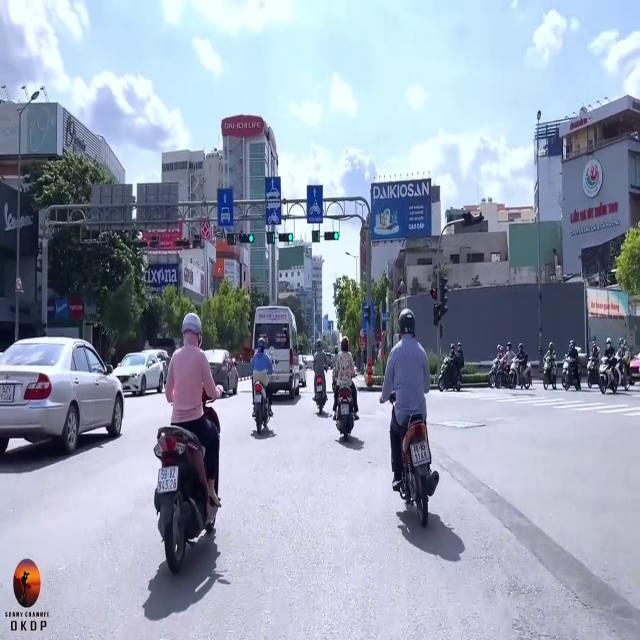bien_trang: (158, 457, 180, 501), (410, 441, 433, 465), (0, 378, 15, 408)
